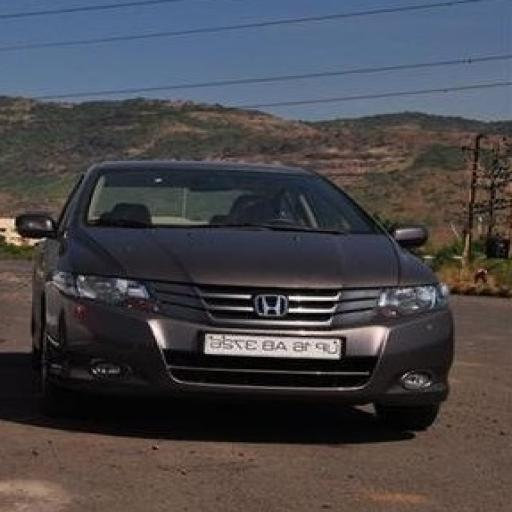License: (202, 331, 341, 355)
